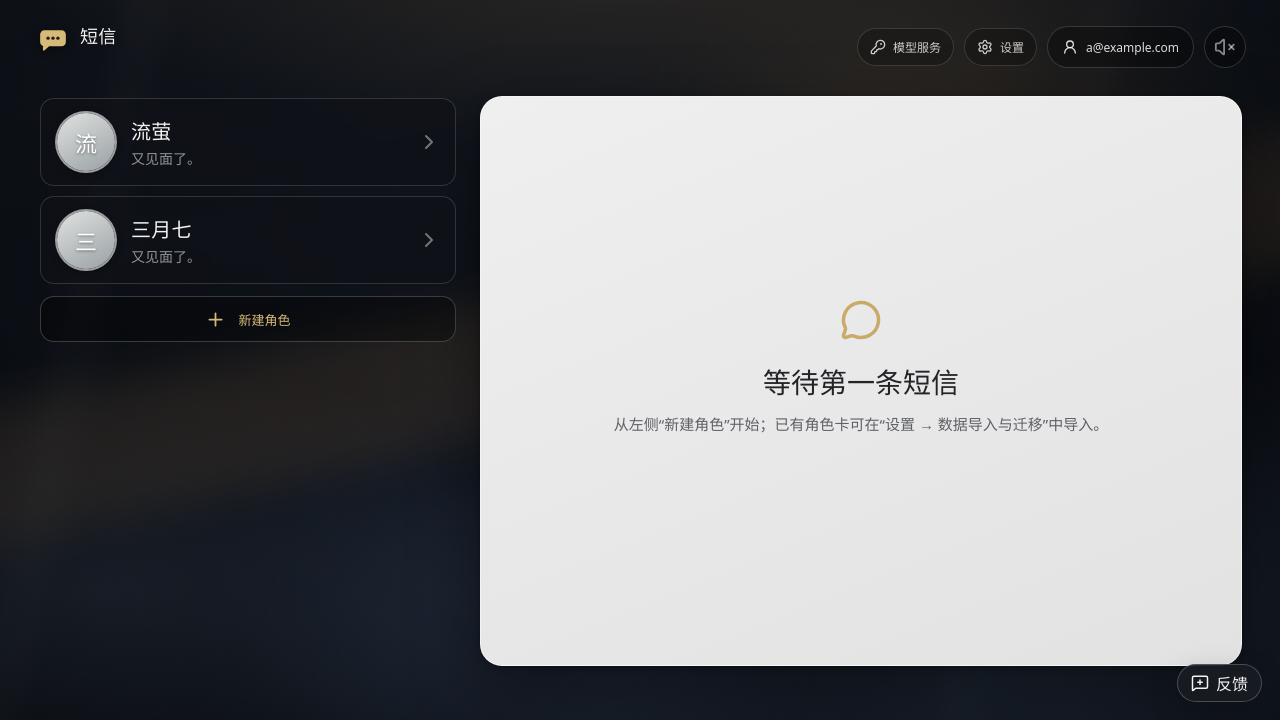
Test: request economy › keeps the settled conversation even when an earlier open resolves last
The width and height of the screenshot is (1280, 720).
Click the button "三 三月七 又见面了。" at point(86, 240), box [40,196,456,284]
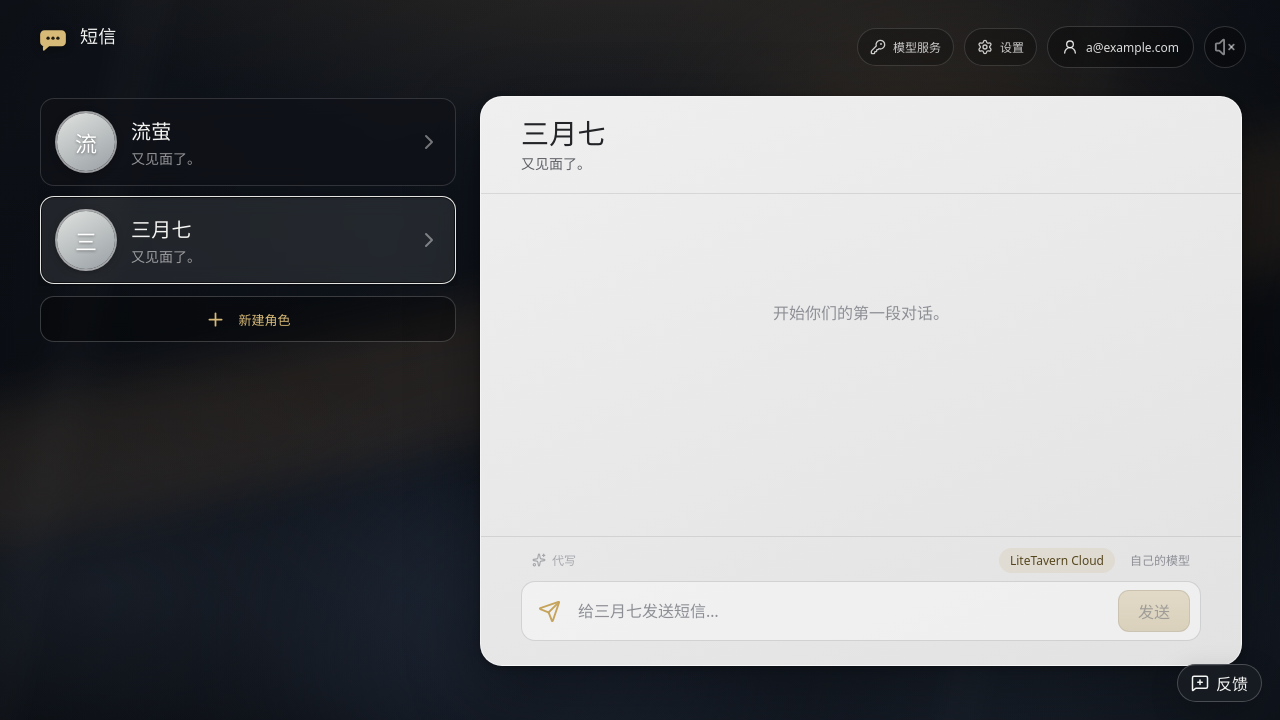
expect the text box with placeholder "给三月七发送短信…" is shown: met, box [576,597,1106,625]
